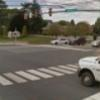crosswalks: (0, 61, 78, 86)
